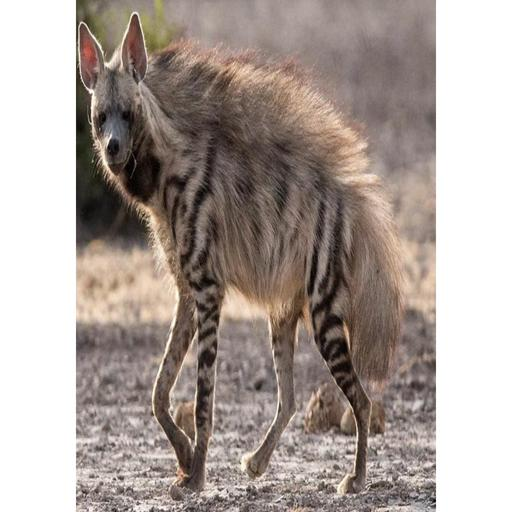Hyena: (78, 12, 411, 502)
